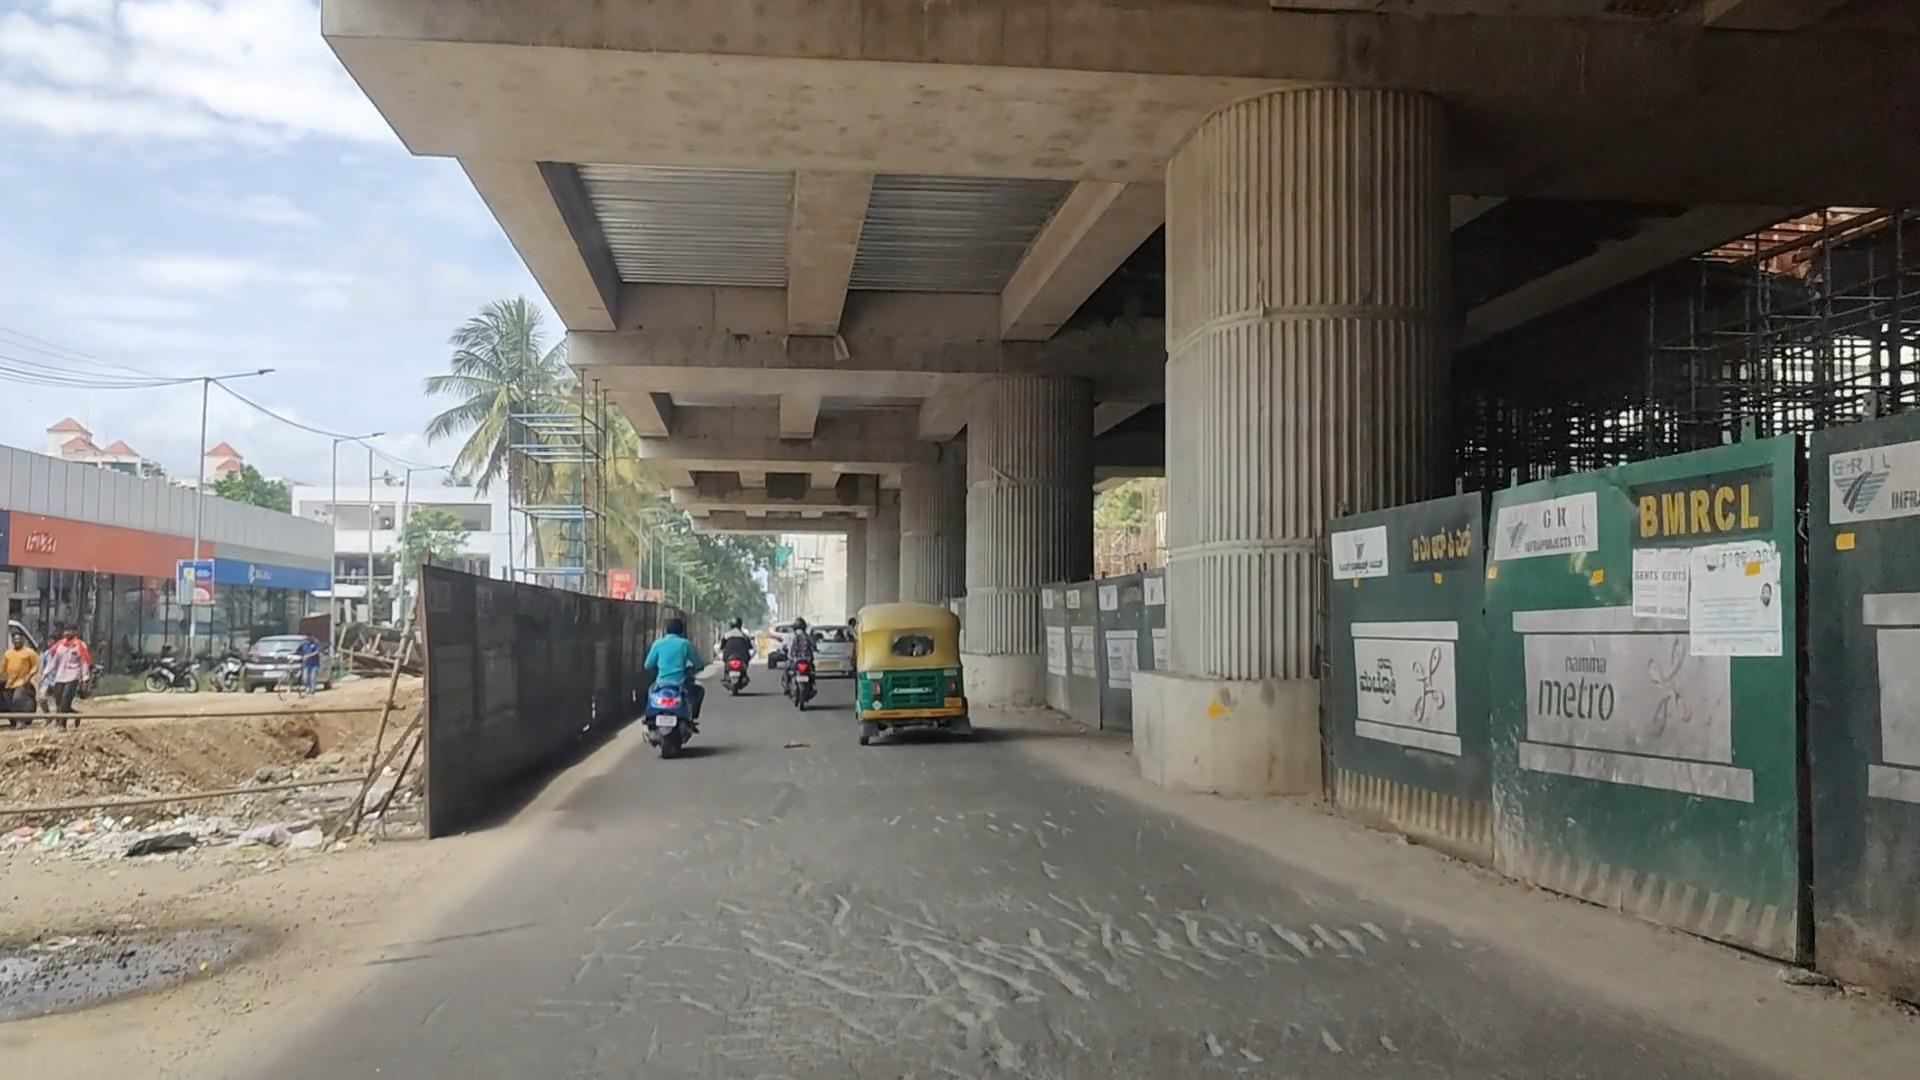LMV: (859, 602, 982, 771), (643, 607, 703, 767), (782, 611, 830, 739)
RoadDamages: (488, 907, 1594, 1075), (704, 778, 1243, 921), (0, 906, 348, 1020)
